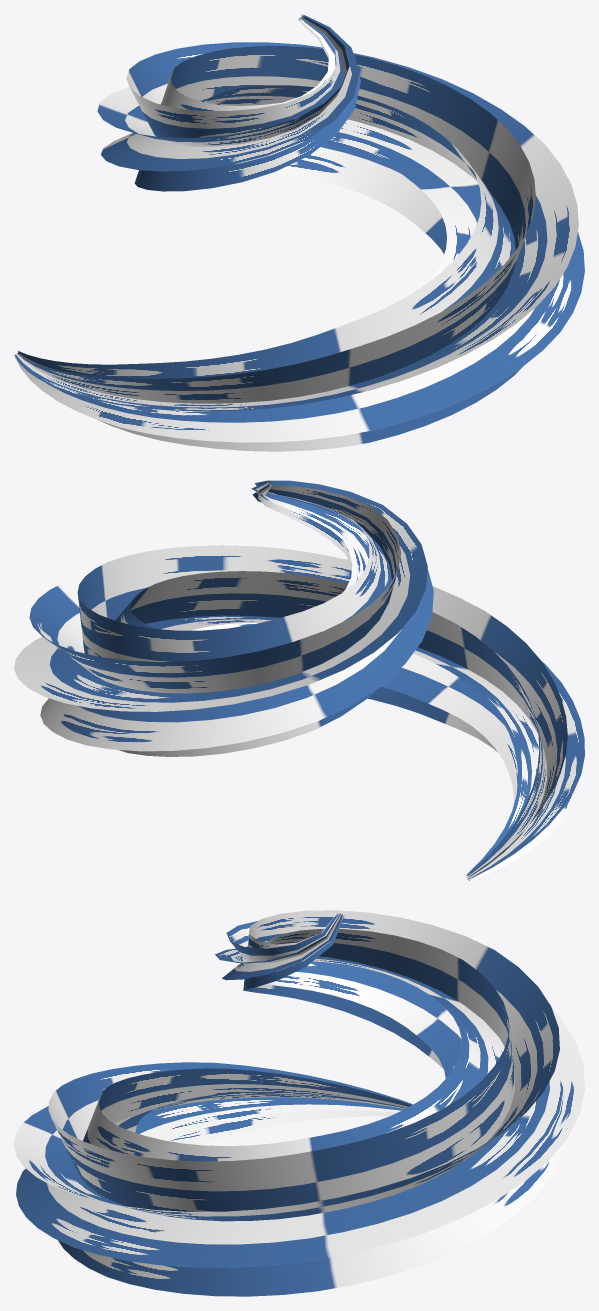
The model's file is Shinobu_Spiral2.fbx.
3 renders of one model, top to bottom at view 1: azimuth 30°, elevation 25°; view 2: azimuth 150°, elevation 25°; view 3: azimuth 270°, elevation 25°, orthographic. The views are drawn at different scales.
Parts seen in each view (by area): view 1: SM_e_Skl_In_Slash_Spilal001; view 2: SM_e_Skl_In_Slash_Spilal001; view 3: SM_e_Skl_In_Slash_Spilal001.
Part boxes in pixels (x1=…): SM_e_Skl_In_Slash_Spilal001: x1=14, y1=14, x2=584, y2=451; SM_e_Skl_In_Slash_Spilal001: x1=14, y1=480, x2=584, y2=881; SM_e_Skl_In_Slash_Spilal001: x1=14, y1=910, x2=584, y2=1296.
Bounding box in the file's own units: 699 × 428 × 662.
